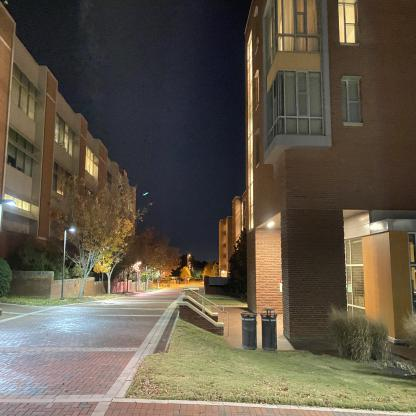eb3: (0, 60, 151, 278)
